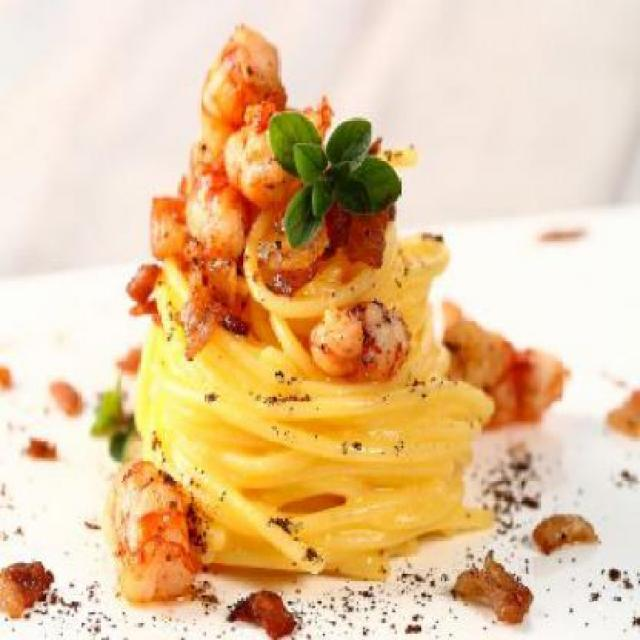Pasta with carbonara sauce: (72, 34, 606, 611)
